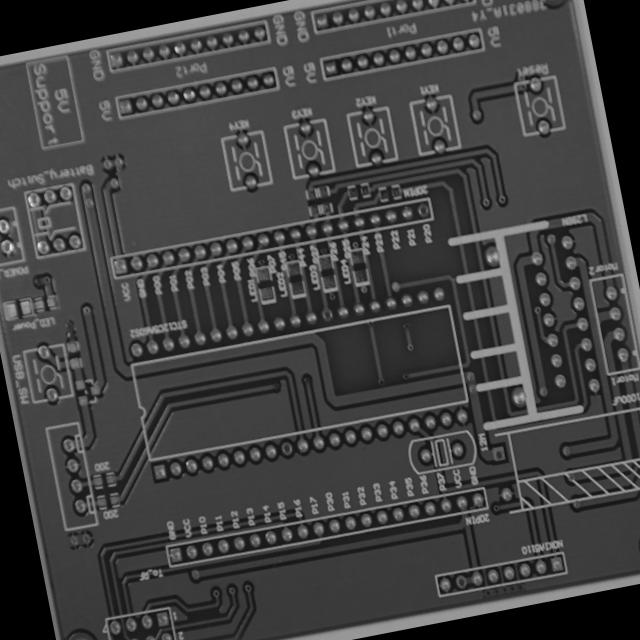missing_hole: (451, 571, 470, 593), (318, 303, 336, 325), (278, 438, 296, 459), (414, 200, 432, 220), (492, 444, 508, 464)
